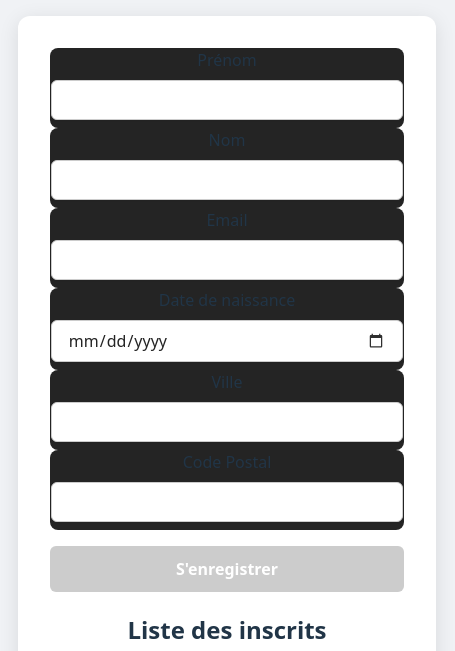
Scenario: Form component › enables button when form is valid
Type "Durand" into the field labelled "Nom" at (227, 180), box [51,160,403,200]
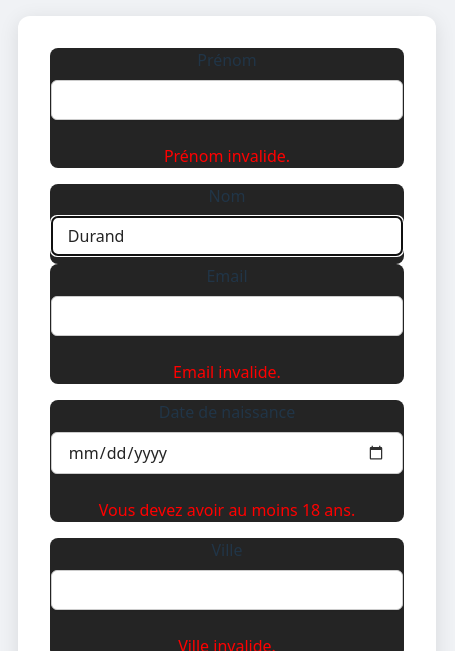
Type "Claire" into the field labelled "Prénom" at (227, 100), box [51,80,403,120]
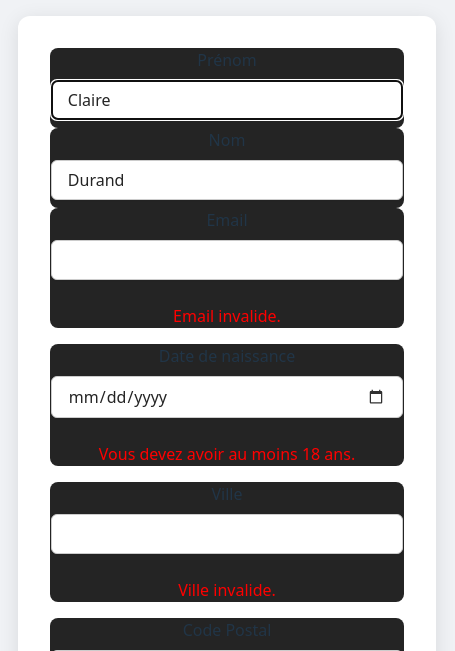
Type "claire@example.com" into the field labelled "Email" at (227, 260), box [51,240,403,280]
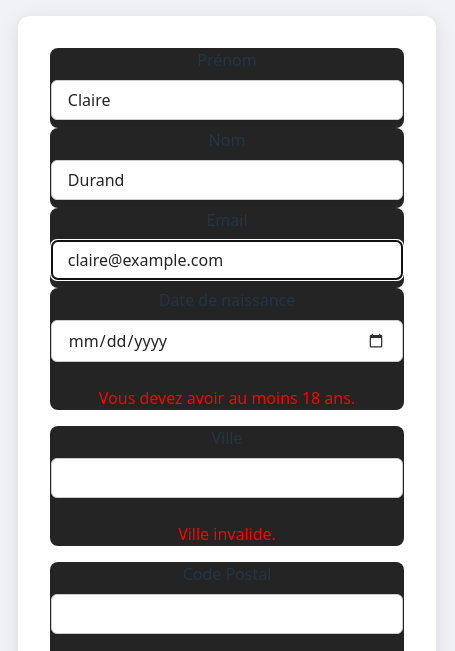
Type "1990-05-05" into the date field labelled "Date de naissance" at (227, 341), box [51,320,403,362]
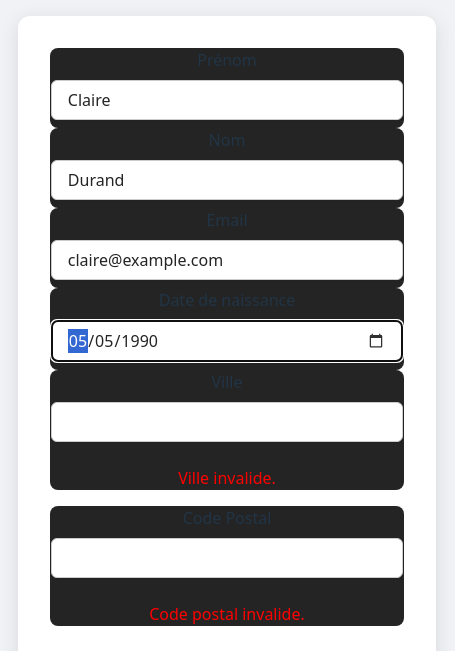
Type "Nice" into the field labelled "Ville" at (227, 422), box [51,402,403,442]
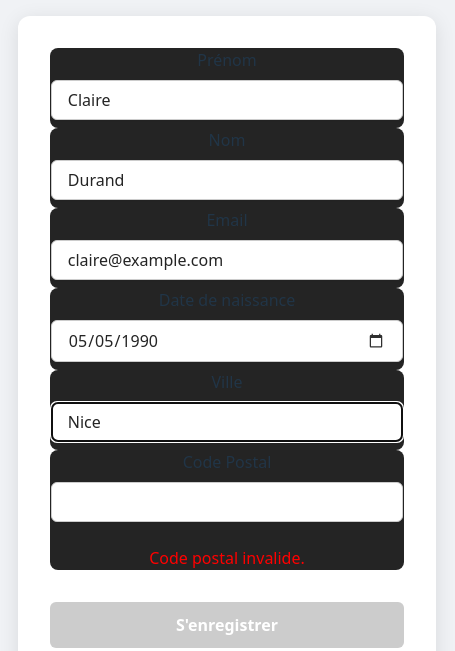
Type "06000" into the field labelled "Code Postal" at (227, 502), box [51,482,403,522]
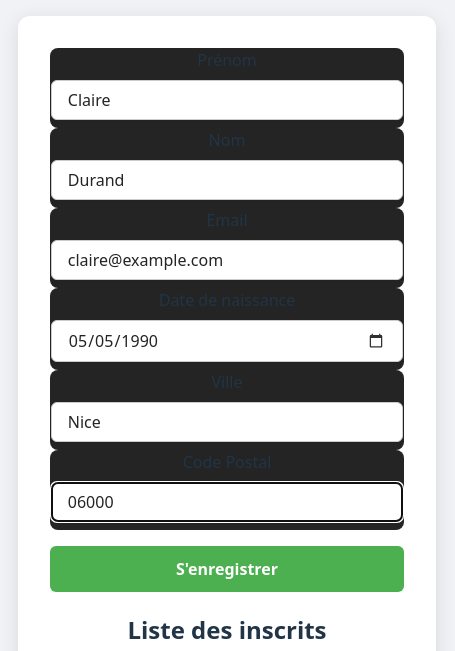
Expected: the button "S'enregistrer" is enabled, [50,546,404,592]
